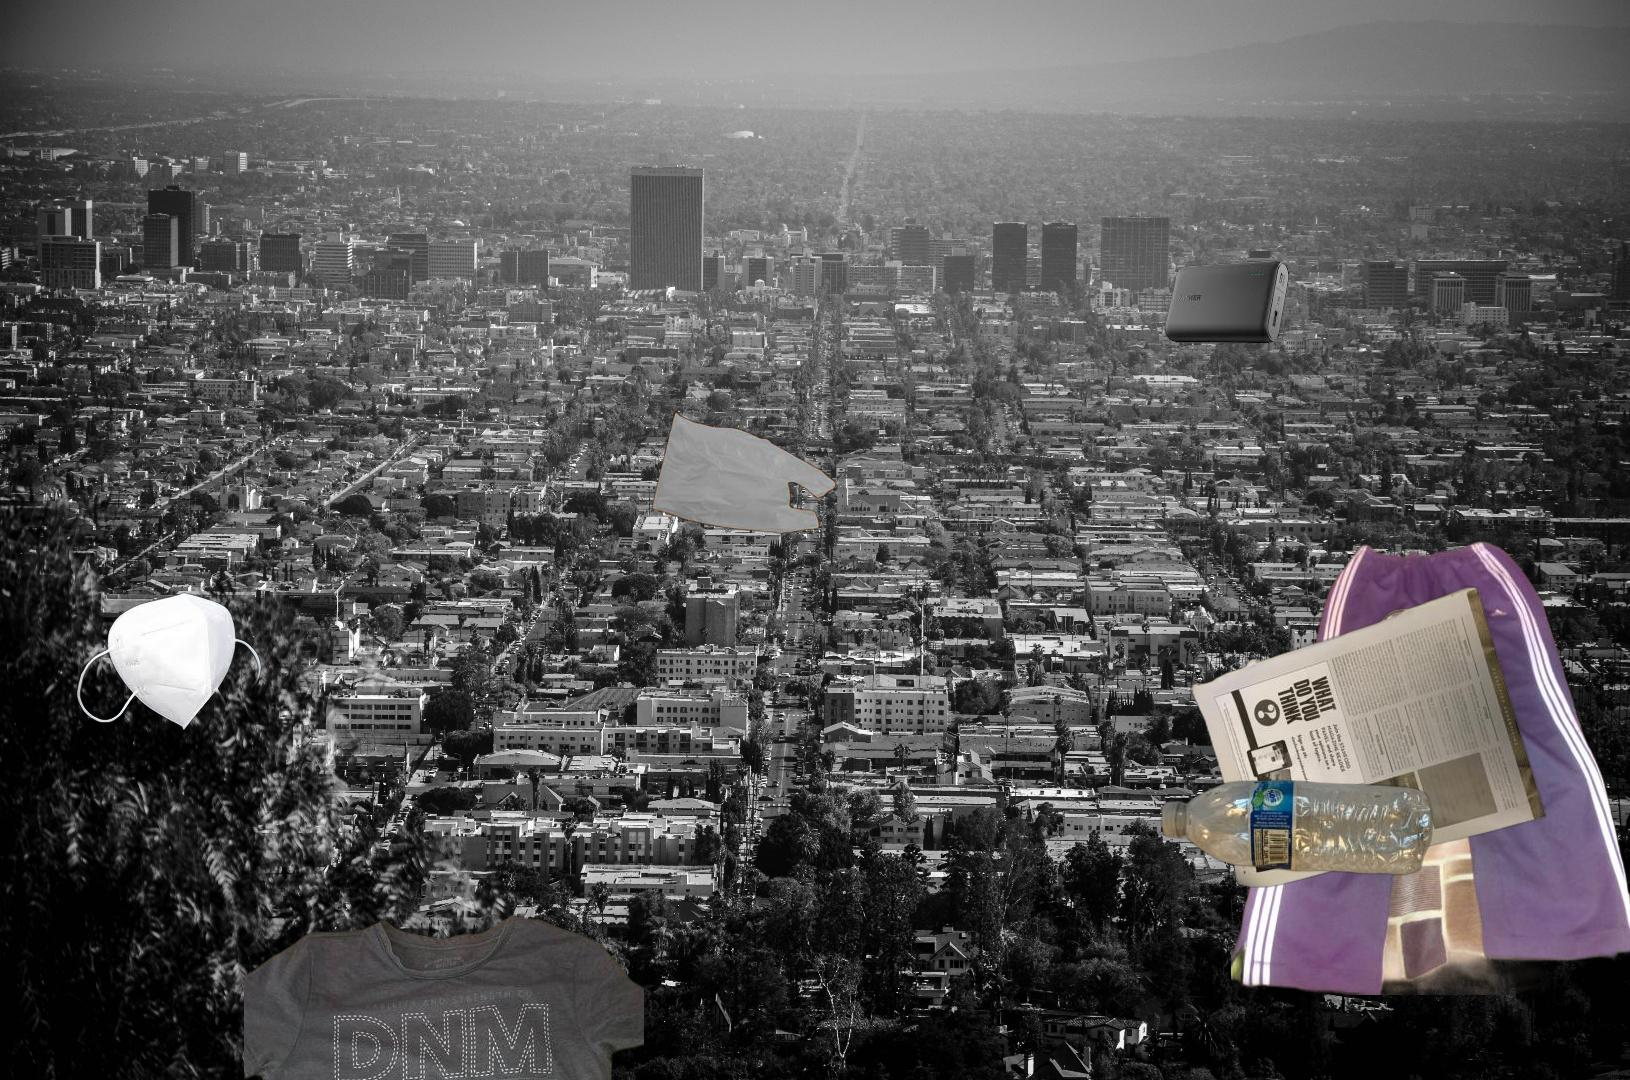battery: (1163, 258, 1291, 346)
clothes: (1231, 538, 1630, 994), (245, 911, 645, 1080)
paper: (1185, 583, 1550, 891)
plastic-bag: (651, 410, 838, 535)
plastic-bottles: (1157, 777, 1436, 877)
trash: (73, 589, 264, 735)
